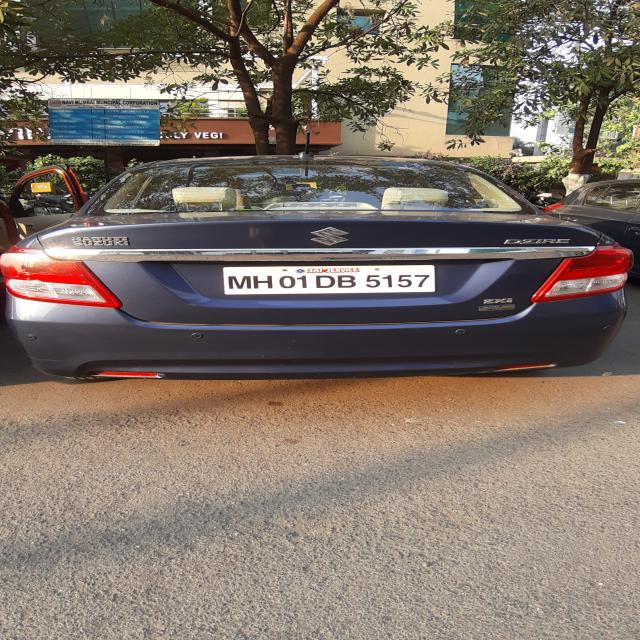Number-Plate: (224, 266, 436, 292)
